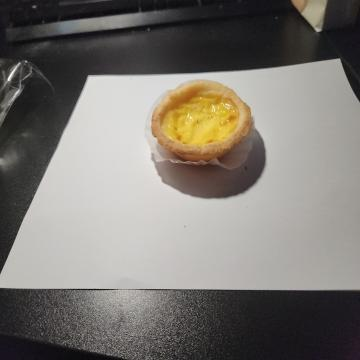EggTart: (151, 78, 252, 163)
